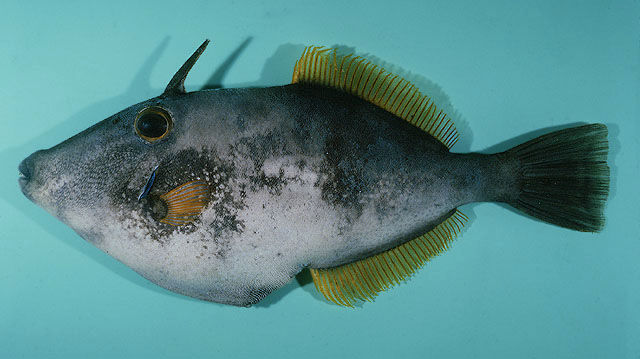fish: (18, 38, 612, 308)
